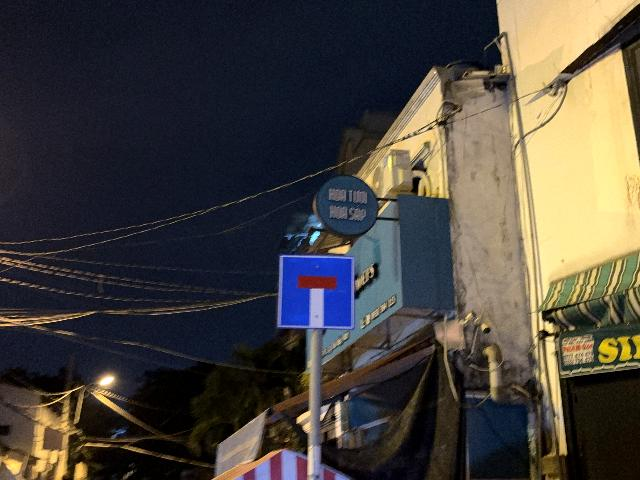duong-cut: (279, 255, 354, 330)
